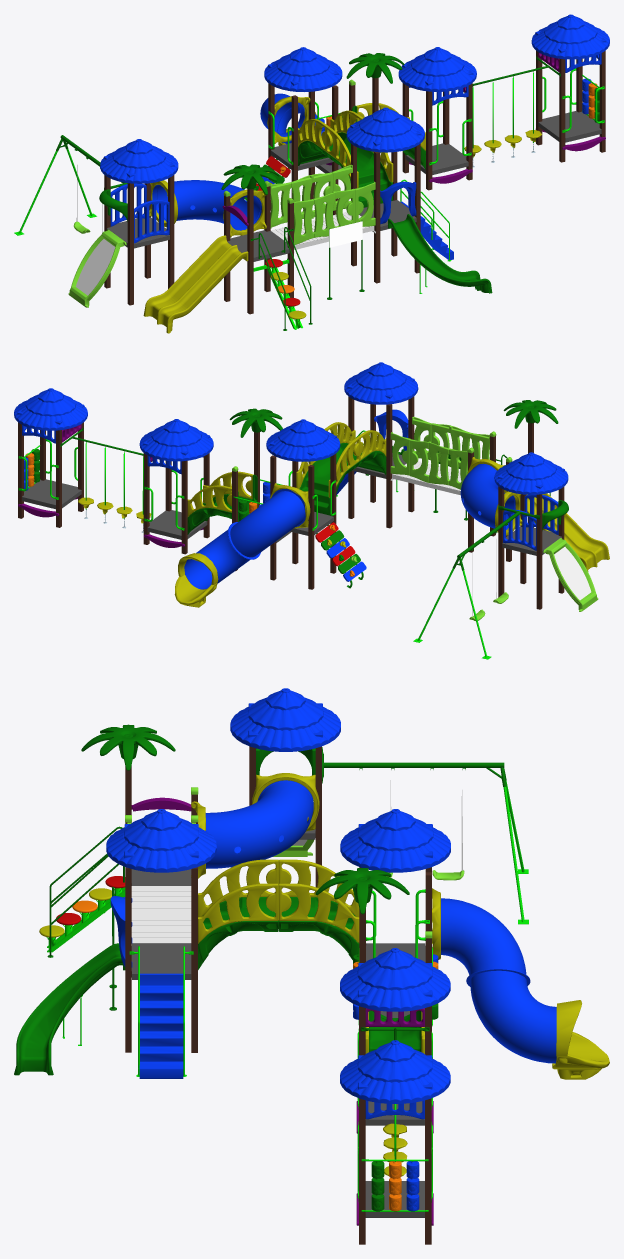
3 renders of one model, top to bottom at view 1: azimuth 30°, elevation 25°; view 2: azimuth 150°, elevation 25°; view 3: azimuth 270°, elevation 25°, orthographic. The views are drawn at different scales.
Visible parts, largest first — view 1: object 8, TOLDO M2.002, TOLDO M2.005, TOLDO M2, TOLDO M2.003, TOLDO M2.006, object 15, PLATAFORMA M1.016, PLATAFORMA M1.002, COQUEIRO M1.001, COQUEIRO M1, PLATAFORMA M1.014 (+27 smaller); view 2: object 8, TOLDO M2.003, TOLDO M2.006, TOLDO M2.002, TOLDO M2, TOLDO M2.005, object 15, ACESSO M1.001, PLATAFORMA M1.016, PLATAFORMA M1.014, COQUEIRO M1.001, COQUEIRO M1 (+26 smaller); view 3: object 8, TOLDO M2.002, TOLDO M2.006, TOLDO M2, TOLDO M2.005, TOLDO M2.003, object 20, object 15, JOGO DA VELHA.003, LATERAL M1.001, LATERAL M1, PLATAFORMA M1.004 (+16 smaller).
Boxes of the visible parts, x1=… form: object 8: x1=68, y1=53, x2=601, y2=333; TOLDO M2.002: x1=346, y1=107, x2=424, y2=152; TOLDO M2.005: x1=531, y1=14, x2=609, y2=59; TOLDO M2: x1=100, y1=139, x2=178, y2=183; TOLDO M2.003: x1=264, y1=47, x2=342, y2=91; TOLDO M2.006: x1=398, y1=47, x2=476, y2=91; object 15: x1=56, y1=135, x2=266, y2=237; PLATAFORMA M1.016: x1=538, y1=111, x2=601, y2=142; PLATAFORMA M1.002: x1=227, y1=230, x2=289, y2=261; COQUEIRO M1.001: x1=346, y1=53, x2=404, y2=83; COQUEIRO M1: x1=221, y1=164, x2=279, y2=194; PLATAFORMA M1.014: x1=405, y1=143, x2=468, y2=174; object 8: x1=22, y1=409, x2=609, y2=611; TOLDO M2.003: x1=266, y1=419, x2=340, y2=461; TOLDO M2.006: x1=139, y1=419, x2=213, y2=461; TOLDO M2.002: x1=344, y1=362, x2=418, y2=404; TOLDO M2: x1=494, y1=452, x2=568, y2=494; TOLDO M2.005: x1=14, y1=388, x2=87, y2=430; object 15: x1=452, y1=457, x2=539, y2=570; ACESSO M1.001: x1=299, y1=457, x2=359, y2=515; PLATAFORMA M1.016: x1=22, y1=479, x2=81, y2=509; PLATAFORMA M1.014: x1=147, y1=510, x2=207, y2=539; COQUEIRO M1.001: x1=229, y1=408, x2=282, y2=437; COQUEIRO M1: x1=503, y1=400, x2=558, y2=428; object 8: x1=14, y1=748, x2=609, y2=1176; TOLDO M2.002: x1=106, y1=809, x2=216, y2=872; TOLDO M2.006: x1=340, y1=948, x2=450, y2=1011; TOLDO M2: x1=230, y1=688, x2=340, y2=751; TOLDO M2.005: x1=340, y1=1040, x2=450, y2=1103; TOLDO M2.003: x1=340, y1=809, x2=450, y2=872; object 20: x1=131, y1=886, x2=191, y2=945; object 15: x1=191, y1=747, x2=506, y2=878; JOGO DA VELHA.003: x1=361, y1=1159, x2=428, y2=1211; LATERAL M1.001: x1=198, y1=883, x2=278, y2=943; LATERAL M1: x1=278, y1=883, x2=359, y2=943; PLATAFORMA M1.004: x1=131, y1=943, x2=191, y2=979.
Bounding box in the file's own units: 12.77 × 3.55 × 8.2.
